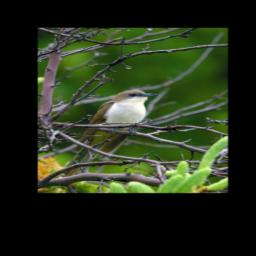Cuckoo: (57, 88, 154, 179)
